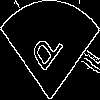P: (25, 25, 65, 81)
